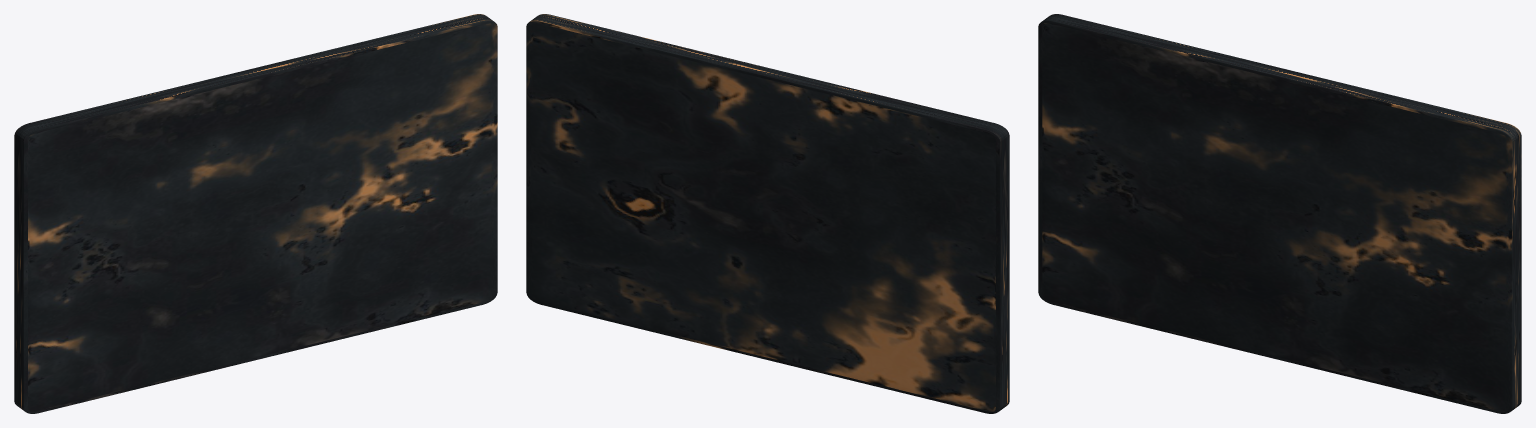
The model's file is Sample_Final.glb.
3 renders of one model, left to right at view 1: azimuth 30°, elevation 25°; view 2: azimuth 150°, elevation 25°; view 3: azimuth 330°, elevation 25°, orthographic.
Visible parts, largest first — view 1: Cube; view 2: Cube; view 3: Cube.
Boxes of the visible parts, <box> form: Cube: <box>14,14,497,413</box>; Cube: <box>526,14,1009,413</box>; Cube: <box>1038,14,1521,413</box>.
Bounding box in the file's own units: 28 × 16 × 1.
1 material, 1 textured.
